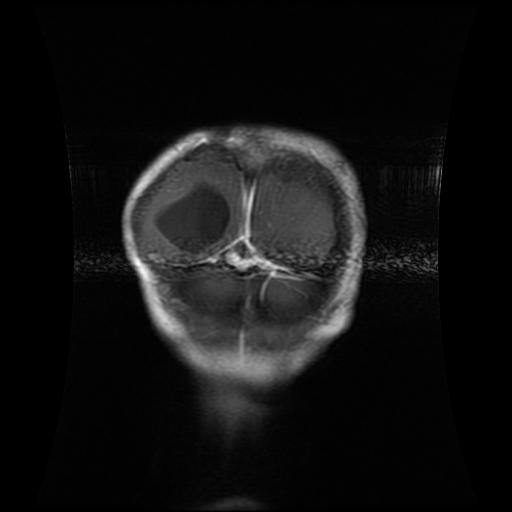Gliomia_tumour: (150, 179, 232, 255)
